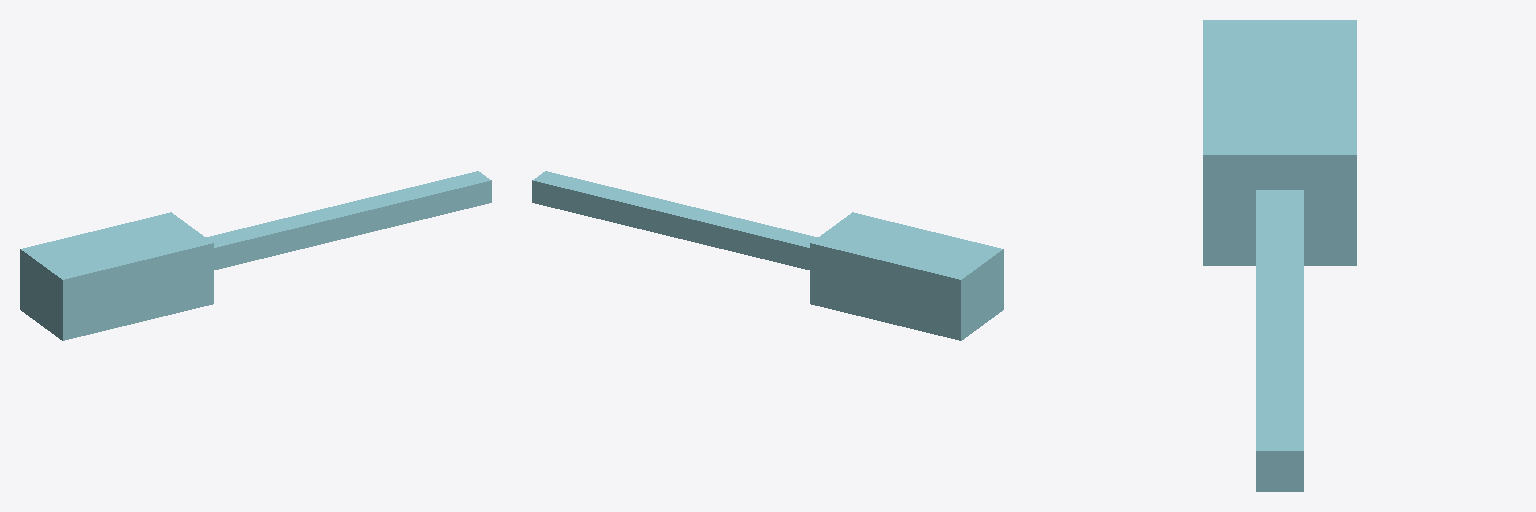
The robot description file, URDF, robot "cuboid_screwdriver_v2000":
<?xml version="1.0"?>
<robot name="cuboid_screwdriver_v2000">

  <link name="cuboid_screwdriver_v2000">
    <!-- Handle -->
    <visual>
      <origin xyz="0 0 0" rpy="0 0 0"/>
      <geometry>
        <box size="0.07472333340307577 0.03620184417023539 0.02893690773884297"/>
      </geometry>
      <material name="material">
        <color rgba="0.639 0.847 0.882 1.0"/>
      </material>
    </visual>
    <collision>
      <origin xyz="0 0 0" rpy="0 0 0"/>
      <geometry>
        <box size="0.07472333340307577 0.03620184417023539 0.02893690773884297"/>
      </geometry>
    </collision>

    <!-- Head -->
    <visual>
      <origin xyz="0.10983419272288905 0 0" rpy="0 0 0"/>
      <geometry>
        <box size="0.14494505204270233 0.011204852875028424 0.01061378966205743"/>
      </geometry>
      <material name="material">
        <color rgba="0.639 0.847 0.882 1.0"/>
      </material>
    </visual>
    <collision>
      <origin xyz="0.10983419272288905 0 0" rpy="0 0 0"/>
      <geometry>
        <box size="0.14494505204270233 0.011204852875028424 0.01061378966205743"/>
      </geometry>
    </collision>

    <inertial>
      <density value="400.0"/>
    </inertial>
  </link>

</robot>

--- Facts derived from the render (not from the file) ---
Views: 3 orthographic renders of the robot side by side, from view 1: azimuth 30°, elevation 25°; view 2: azimuth 150°, elevation 25°; view 3: azimuth 270°, elevation 25°.
Model cuboid_screwdriver_v2000 with 1 links and 0 joints (none), rooted at cuboid_screwdriver_v2000, posed all joints at 0.
Links seen in each view (by area): view 1: cuboid_screwdriver_v2000; view 2: cuboid_screwdriver_v2000; view 3: cuboid_screwdriver_v2000.
Boxes of the visible links, x1=… form: cuboid_screwdriver_v2000: x1=20, y1=171, x2=491, y2=340; cuboid_screwdriver_v2000: x1=532, y1=171, x2=1003, y2=340; cuboid_screwdriver_v2000: x1=1203, y1=20, x2=1356, y2=491.
Size in the robot's own frame: 0.2197 by 0.0362 by 0.0289 metres.
Geometry: primitives only (box / cylinder / sphere), no mesh files.
